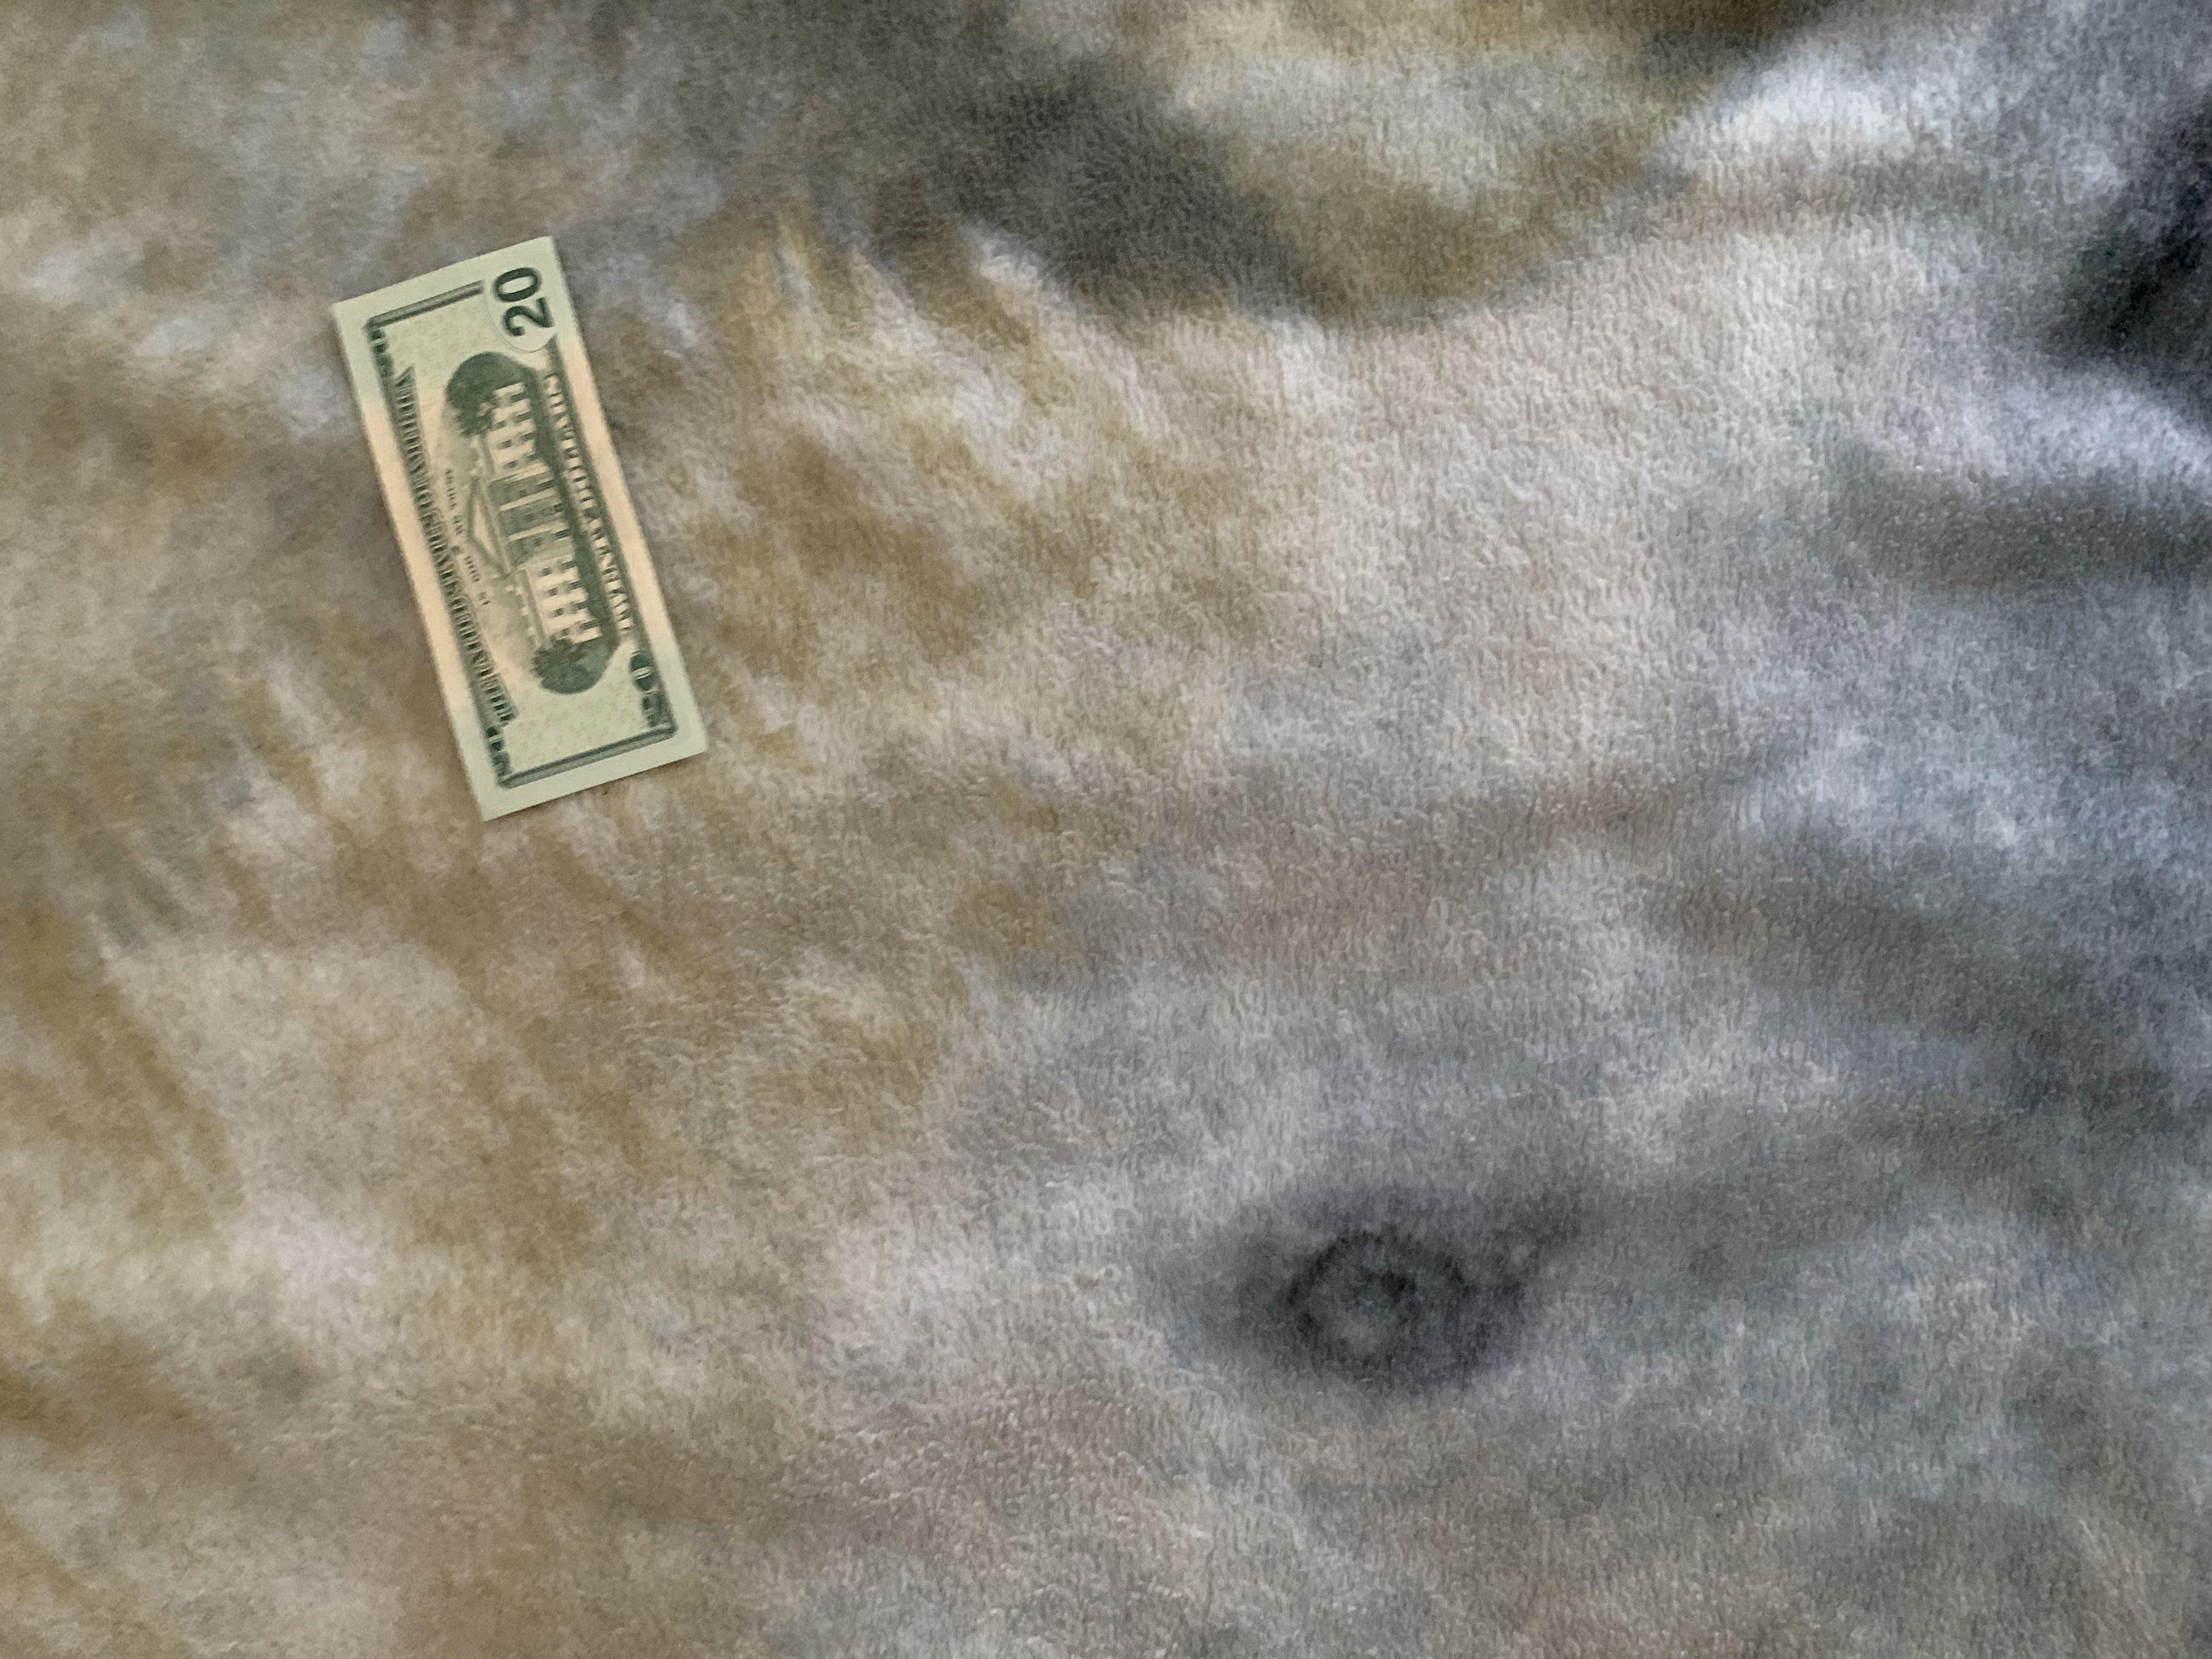TwentyBill: (327, 235, 718, 826)
